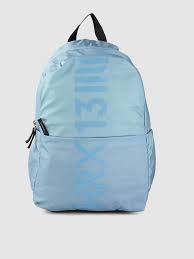backpack: (25, 12, 156, 212)
